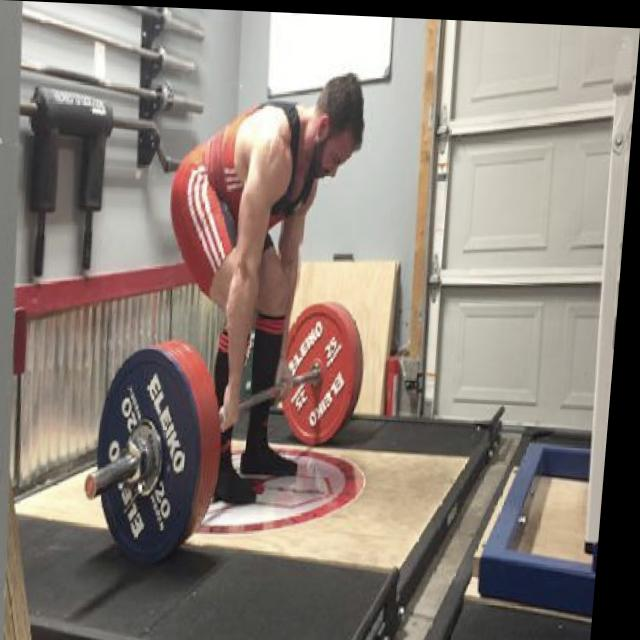barbell: (85, 341, 208, 570)
